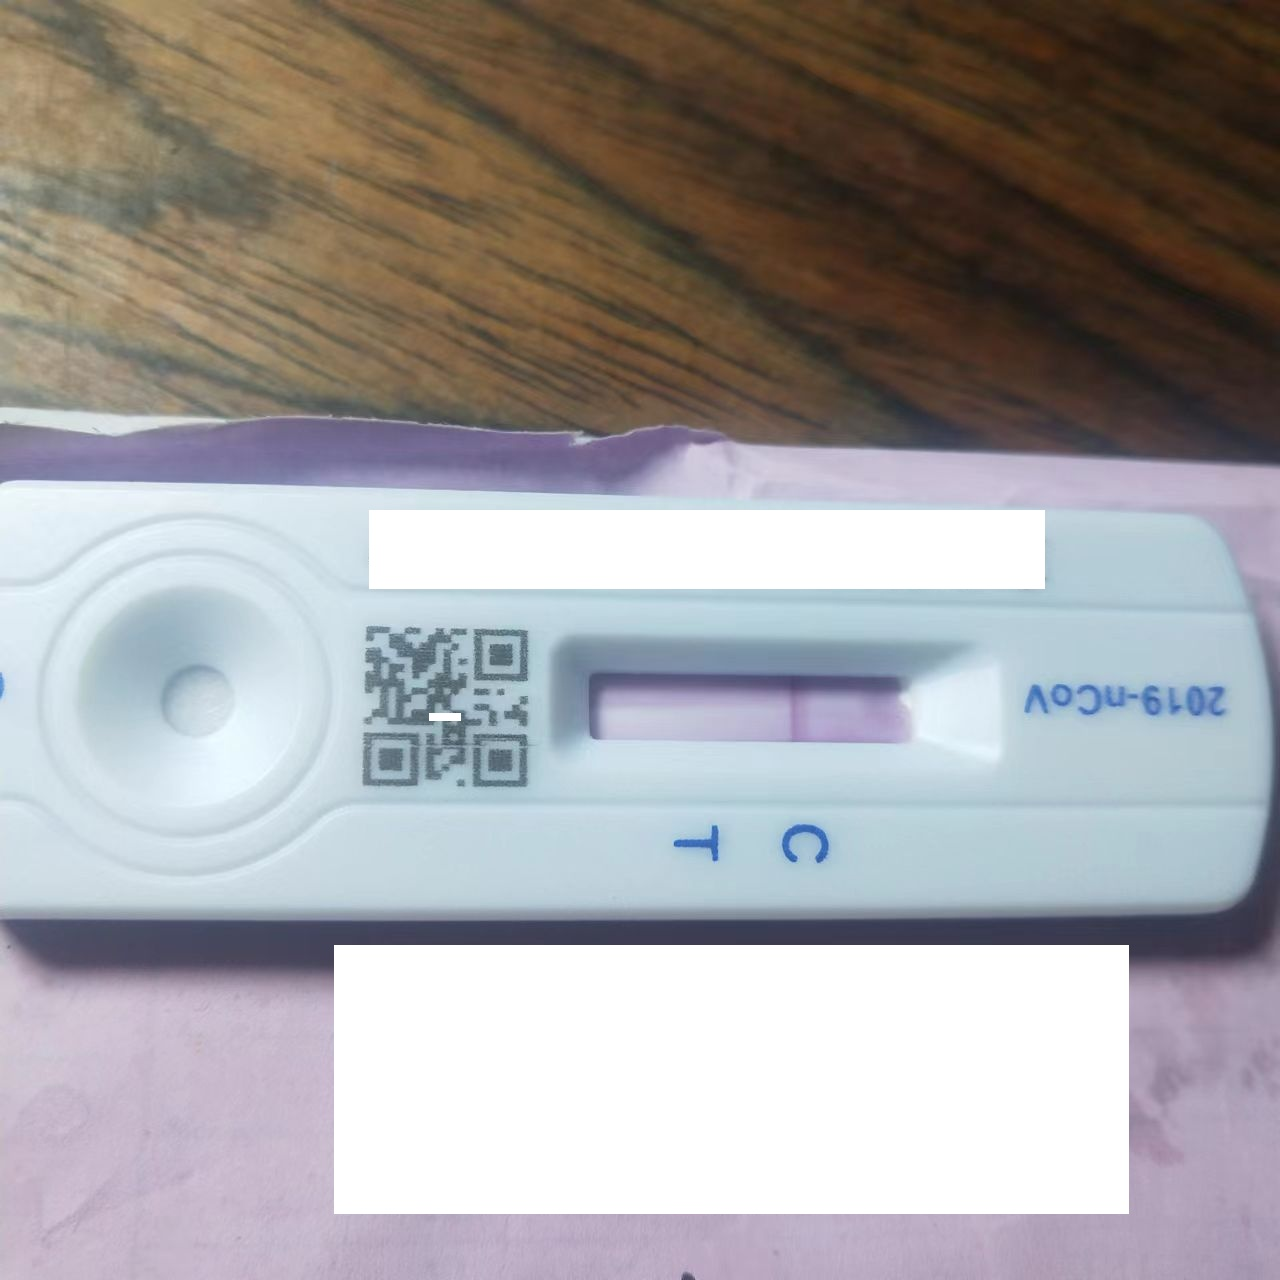negative: (515, 633, 998, 784)
